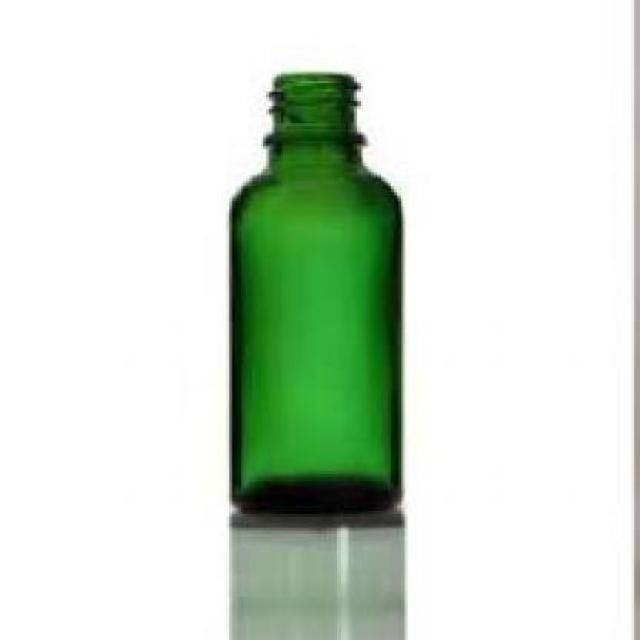kaca: (229, 72, 400, 511)
